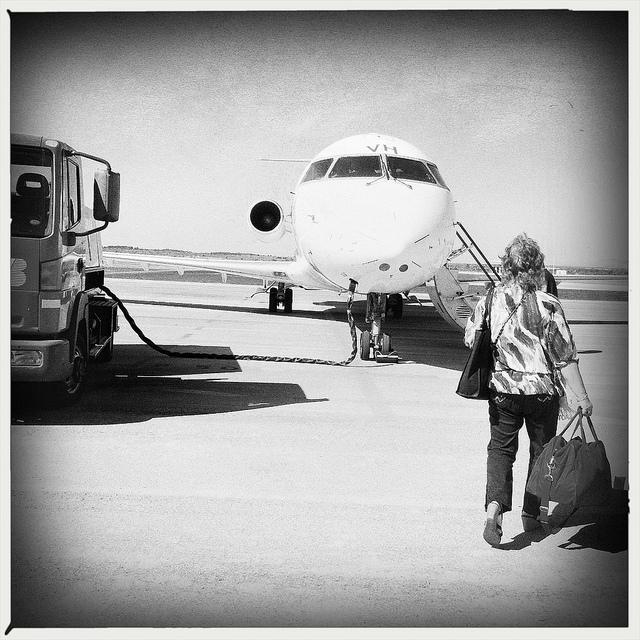truck: (10, 132, 124, 410)
